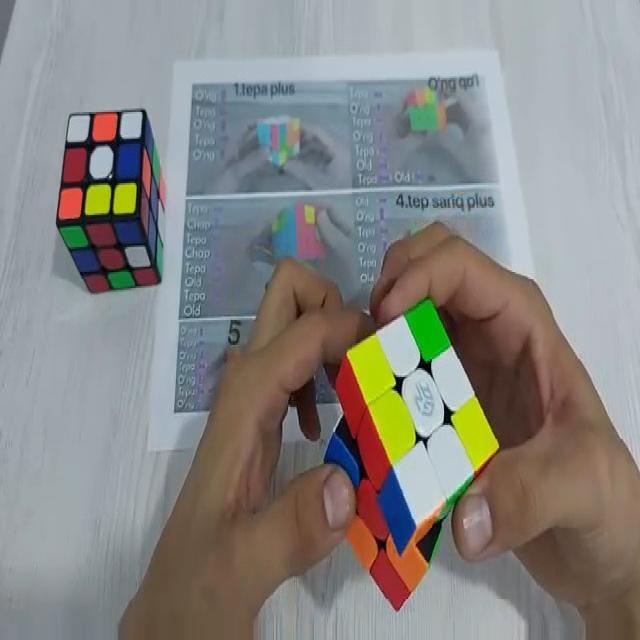Rub: (322, 297, 504, 616), (58, 108, 167, 290)
